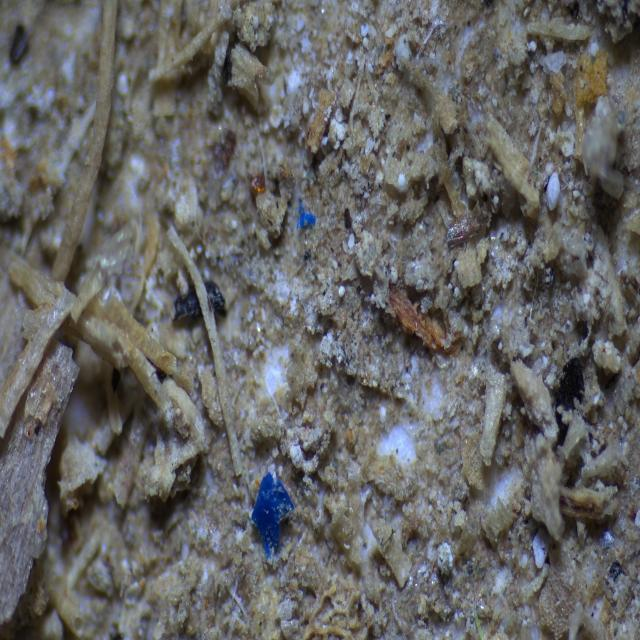microplastic: (237, 463, 302, 567), (298, 181, 325, 230)
